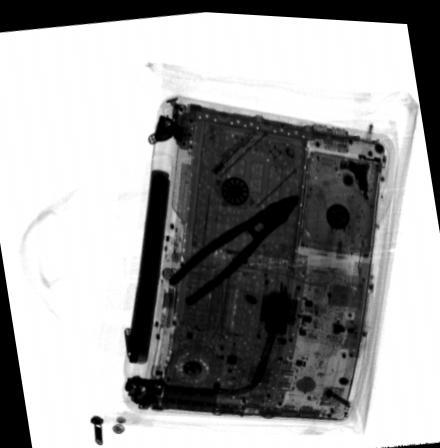Pliers: (168, 189, 302, 304)
